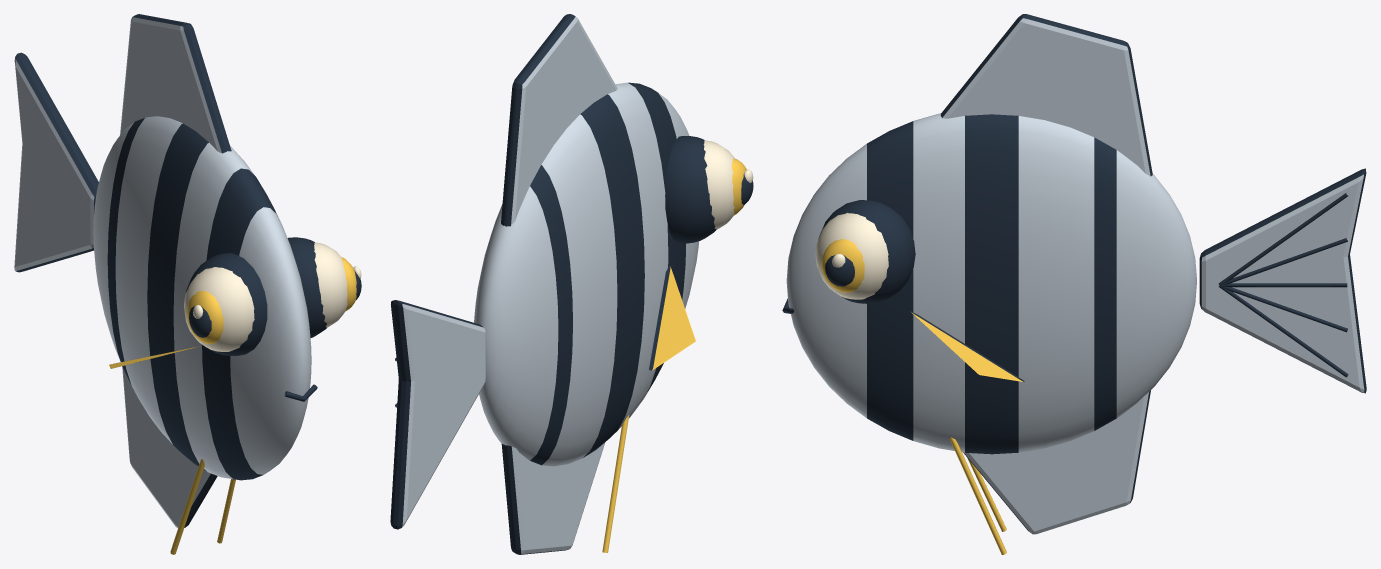
The model's file is angelfish.glb.
3 renders of one model, left to right at view 1: azimuth 30°, elevation 25°; view 2: azimuth 150°, elevation 25°; view 3: azimuth 270°, elevation 25°, orthographic. The views are drawn at different scales.
Visible parts, largest first — view 1: BodyMesh, TailMesh; view 2: BodyMesh, TailMesh; view 3: BodyMesh, TailMesh.
Part boxes in pixels (x1,y1,x2,y2): BodyMesh: (93, 14, 361, 554); TailMesh: (14, 52, 98, 272); BodyMesh: (474, 14, 753, 554); TailMesh: (390, 300, 485, 529); BodyMesh: (782, 14, 1196, 554); TailMesh: (1199, 168, 1366, 393).
Size of the model in its own units: 0.9228 by 2.33 by 2.33.
